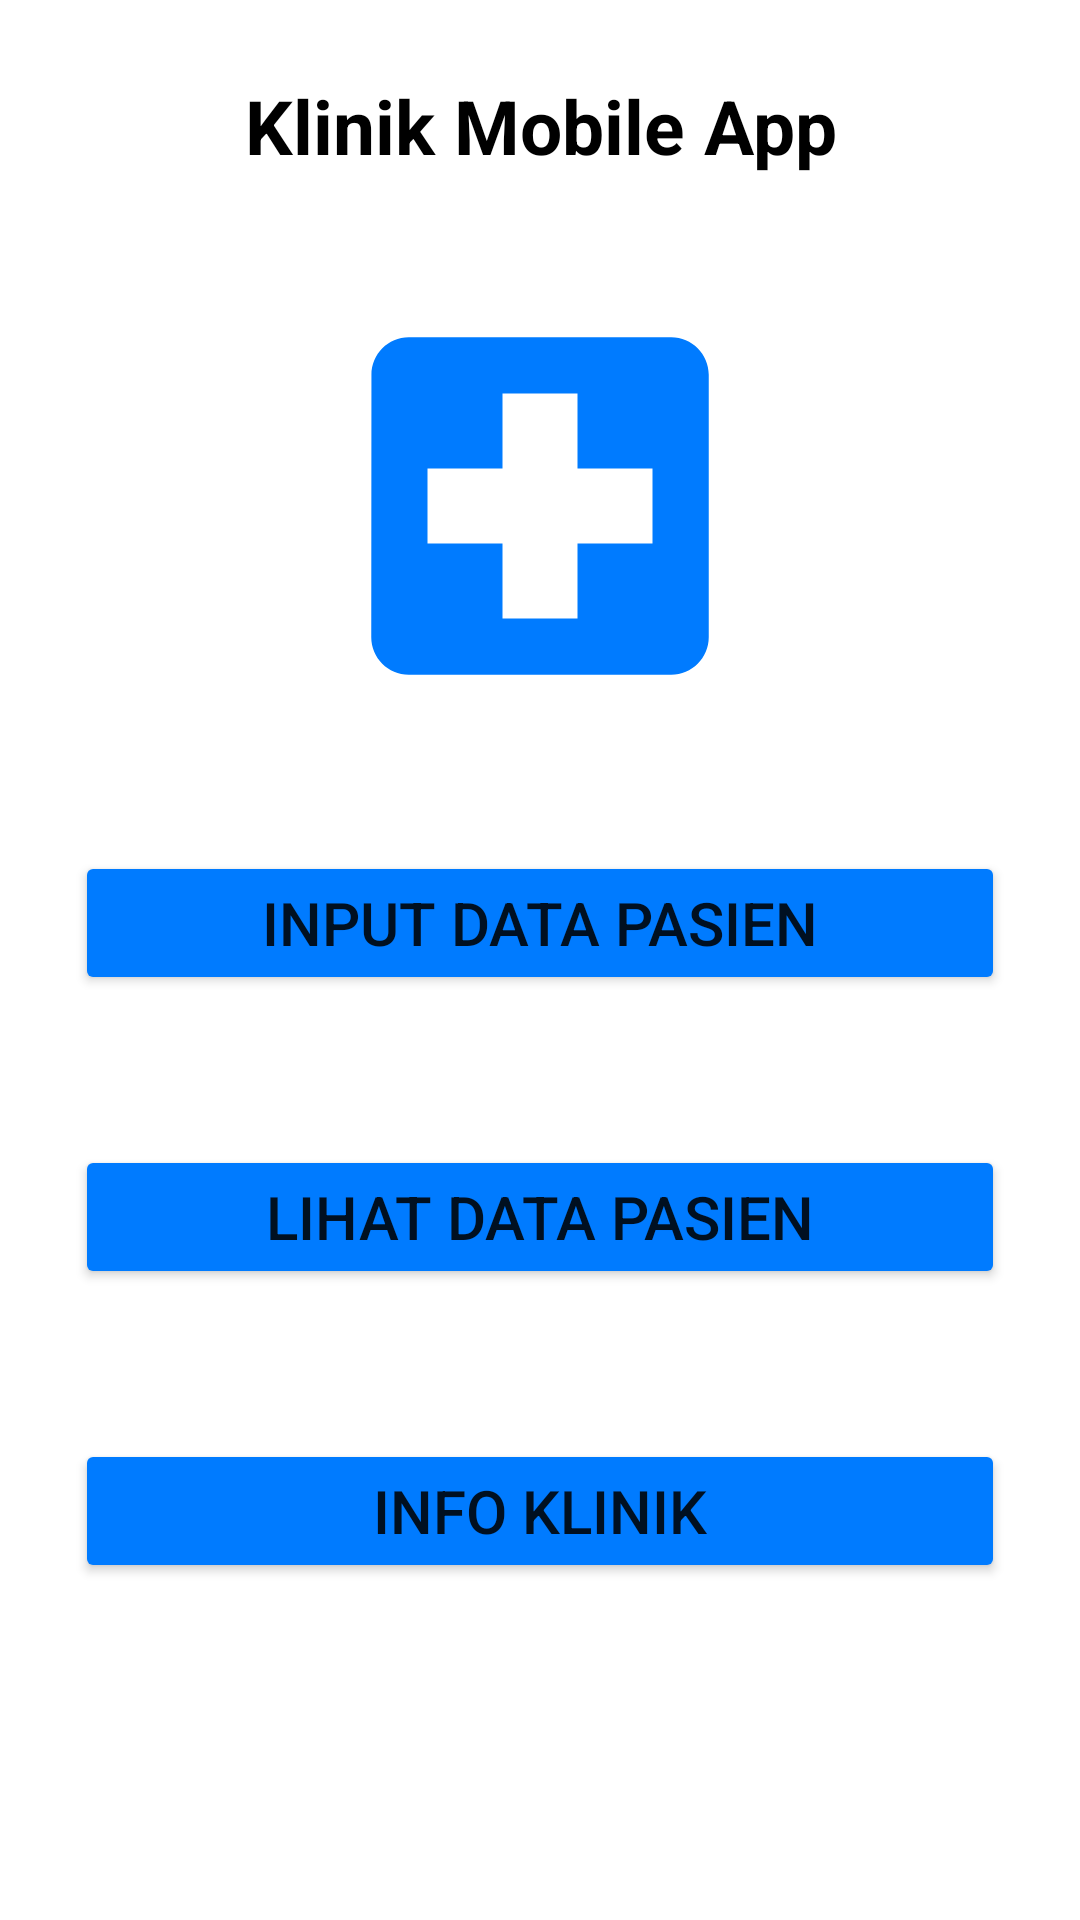

Screen size 1080px x 1920px. Icon name, then its box in pixels as (x1, y1, x2, y2):
hospital: (371, 337, 709, 675)
